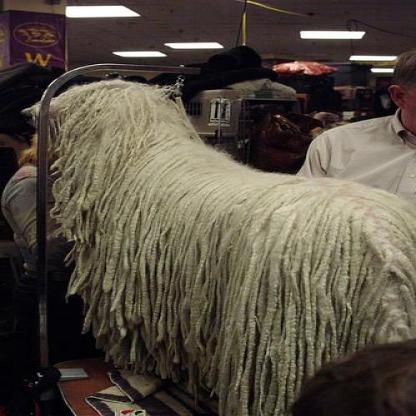komondor: (15, 74, 412, 414)
